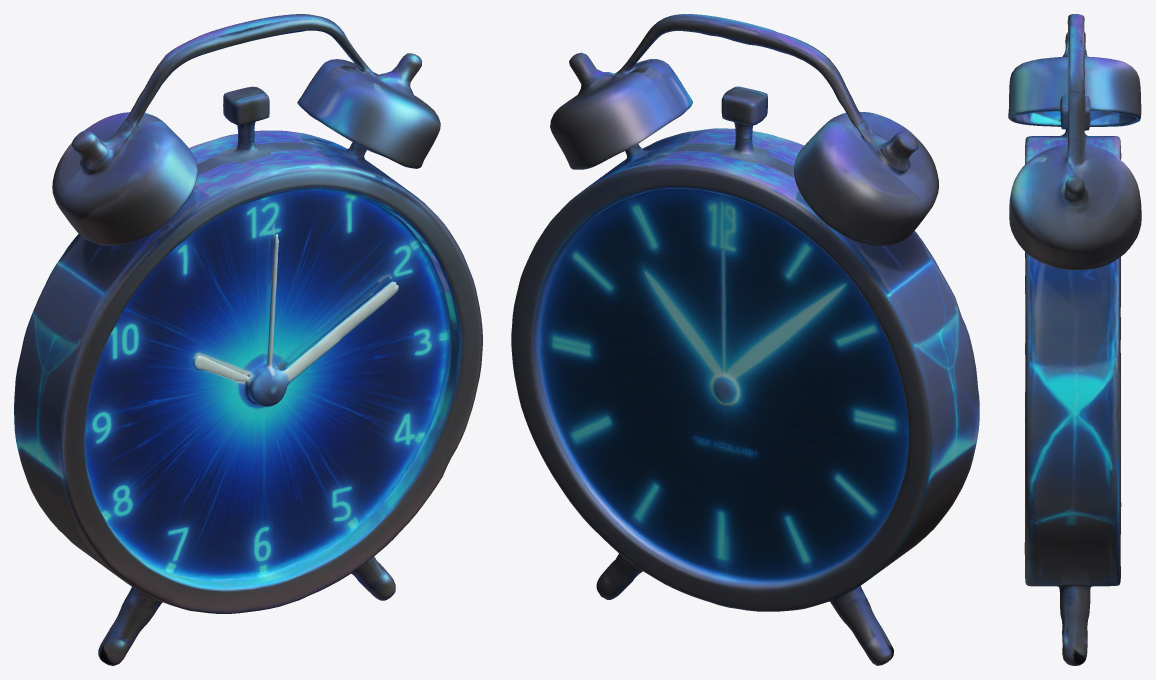
File: fireRate3.glb
3 renders of one model, left to right at view 1: azimuth 30°, elevation 25°; view 2: azimuth 150°, elevation 25°; view 3: azimuth 270°, elevation 25°, orthographic. The views are drawn at different scales.
Size of the model in its own units: 1.45 by 1.99 by 0.4259.
1 material, 1 textured.
